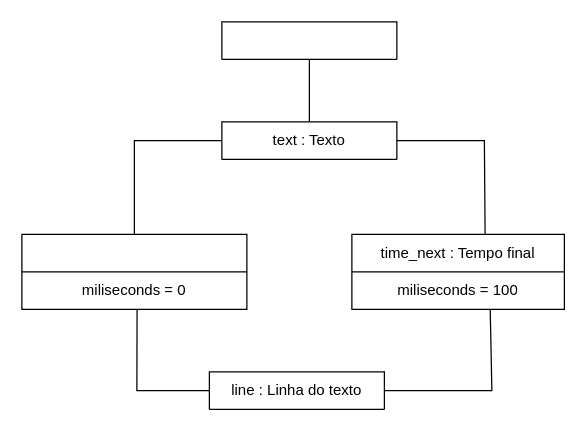
Some shapes in this 586 by 431 pixel diagram are drawn without their labels. The shapes that lost their labels are listed below. From the top down, each one's box as (x1, y1, x2, y2) in pixels, then its label:
(221, 21, 397, 59): filename : Arquivo
(21, 233, 247, 309): time : Tempo inicial
